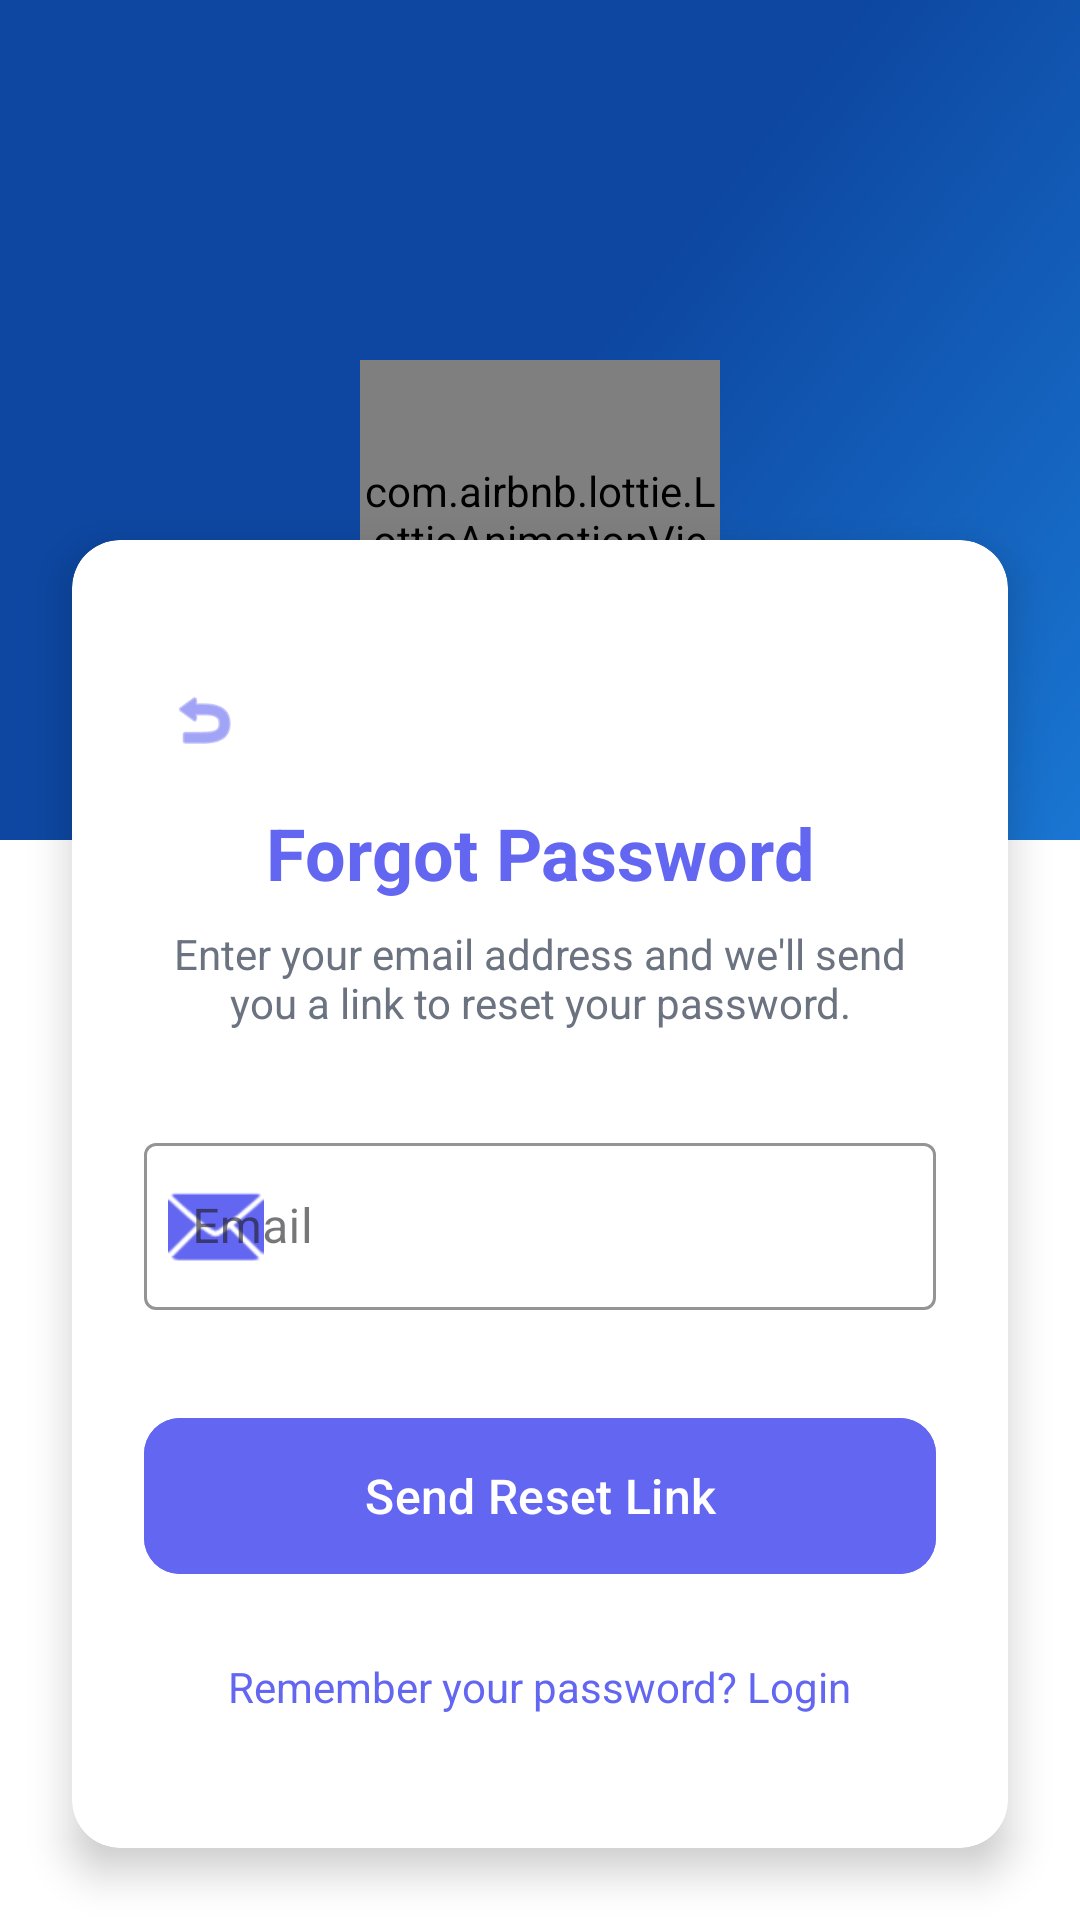

Locate icon controls on the screen. Image size 1080 × 1920, boxes as (x1, y1, x2, y2).
Back: (179, 697, 231, 744)
